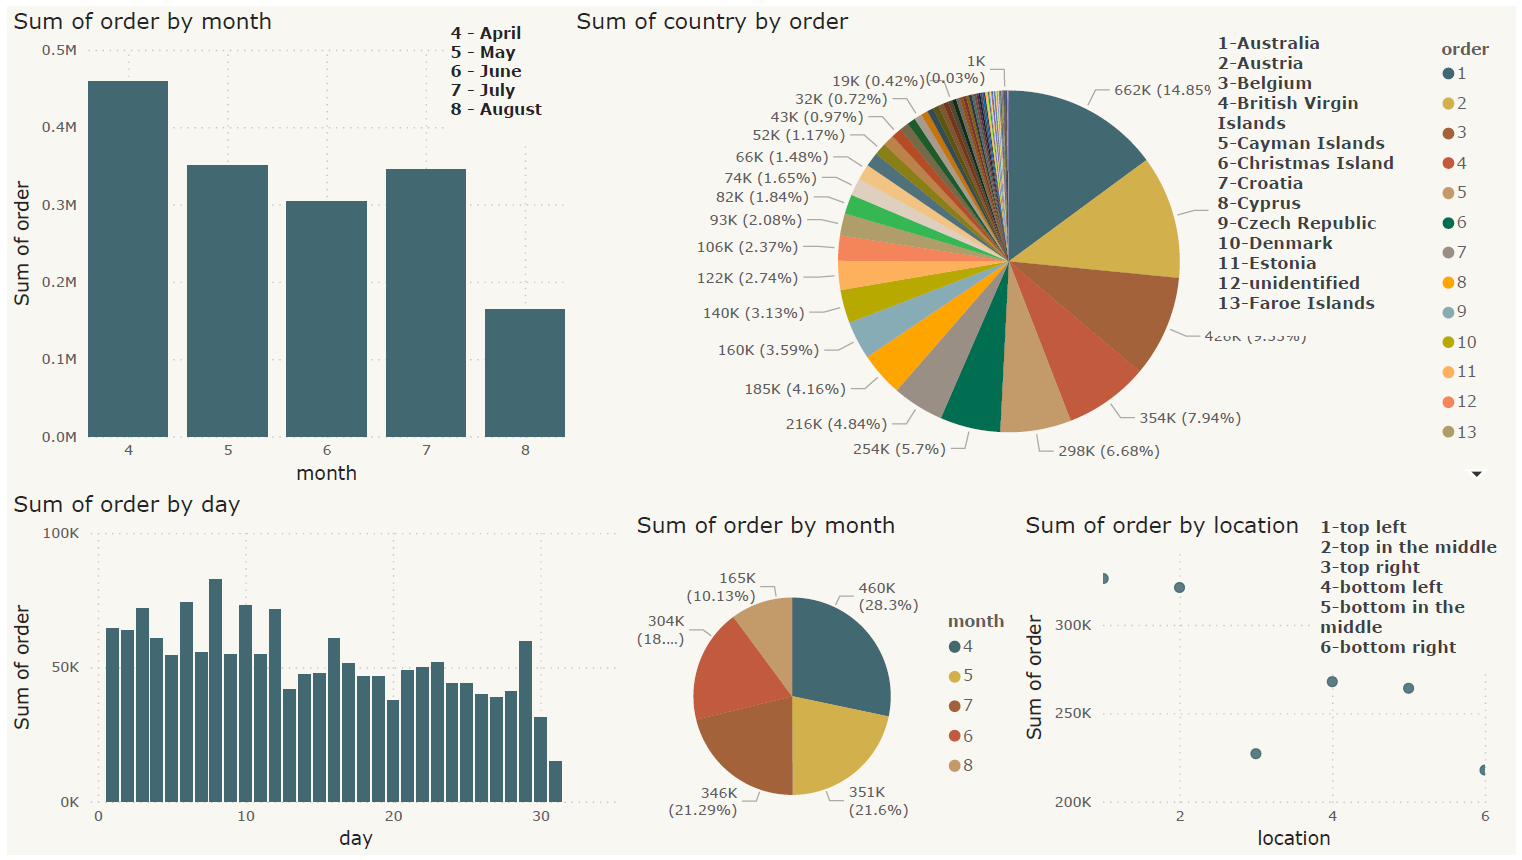

What the dashboard file says about the page in this screenshot:
{"tool":"powerbi","page":{"name":"Page 1","canvas":[1280,720],"ordinal":0},"visuals":[{"type":"columnChart","fields":{"Category":["Clothing.month"],"Y":["Sum(Clothing.order)"]},"box":[0,0,477.6,409.6],"z":0},{"type":"columnChart","fields":{"Y":["Sum(Clothing.order)"],"Category":["Clothing.day"]},"box":[0,409.6,528.6,310.4],"z":1000},{"type":"pieChart","fields":{"Category":["Clothing.month"],"Y":["Sum(Clothing.order)"]},"box":[528.6,428.4,340.8,291.6],"z":2000},{"type":"scatterChart","fields":{"X":["Clothing.location"],"Y":["Sum(Clothing.order)"]},"box":[859,428,404,292],"z":2001},{"type":"textbox","box":[371.2,9.8,106.4,106.4],"z":2002},{"type":"textbox","box":[1109,428,171,137],"z":2003},{"type":"pieChart","fields":{"Y":["Sum(Clothing.country)"],"Category":["Clothing.order"]},"box":[477.6,0,802.3,409.6],"z":2004},{"type":"textbox","box":[1022.3,17,185.1,262.1],"z":2005}]}

Visuals, with their boxes in screenshot pixels (x1, y1, x2, y2), scaled from the page's 1280x720 canvas onto the 1522x860 screenshot:
columnChart - Clothing.month x Sum(Clothing.order): [0,0,568,489]
columnChart - Sum(Clothing.order) x Clothing.day: [0,489,629,859]
pieChart - Clothing.month x Sum(Clothing.order): [629,512,1034,859]
scatterChart - Clothing.location x Sum(Clothing.order): [1021,511,1502,859]
textbox: [441,12,568,139]
textbox: [1319,511,1521,675]
pieChart - Sum(Clothing.country) x Clothing.order: [568,0,1521,489]
textbox: [1216,20,1436,333]
